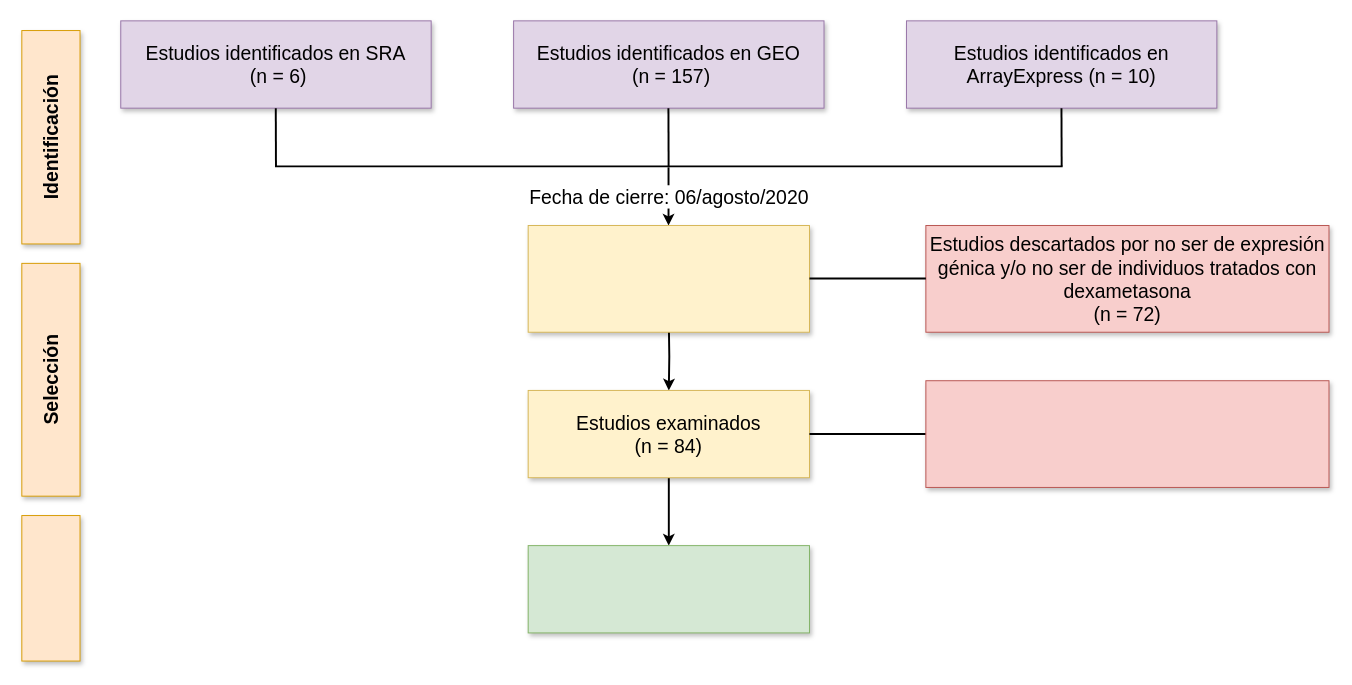
The diagram is 1352 pixels wide and 685 high, and some of its shapes have lost their labels. The centre of each missing label's shape, as x and y in pixels:
Estudios después de eliminar duplicados (n = 156): (669,280)
Estudios excluidos de acuerdo a criterios de inclusión exclusión (n = 47): (1128,435)
Estudios incluidos en el metaanálisis (n = 37): (669,590)
Inclusión: (51,589)
